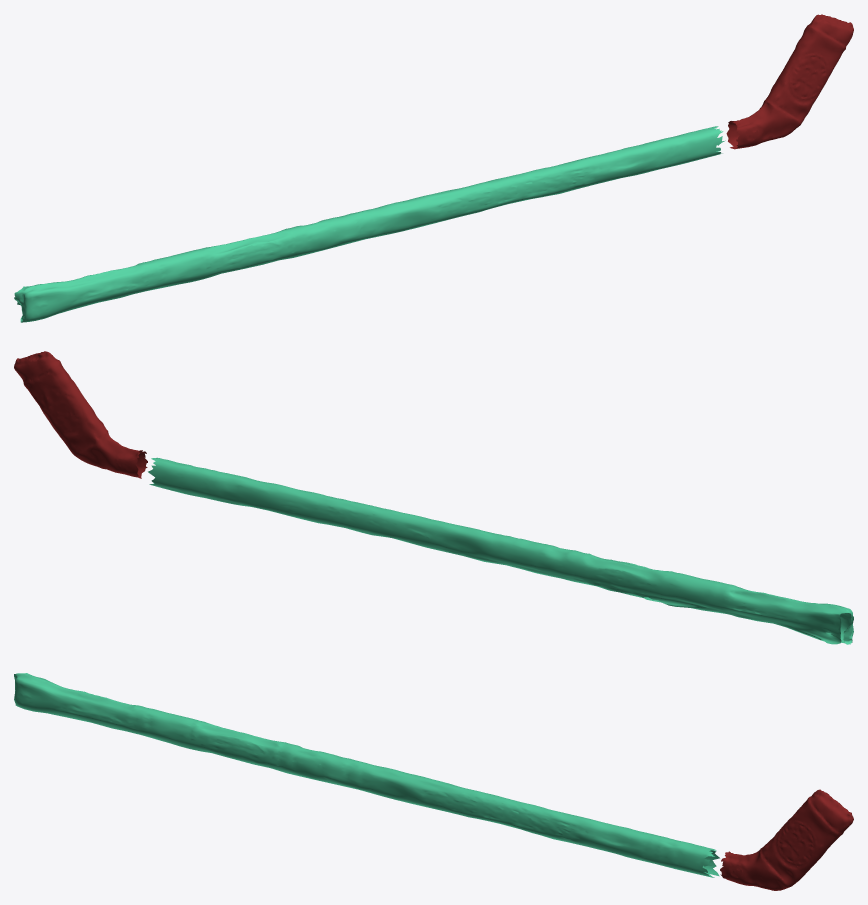
Rendered from object_deformed_9.obj.
3 renders of one model, top to bottom at view 1: azimuth 30°, elevation 25°; view 2: azimuth 150°, elevation 25°; view 3: azimuth 330°, elevation 25°, orthographic.
Bounding box in the file's own units: 1.33 × 0.1694 × 0.0526.
